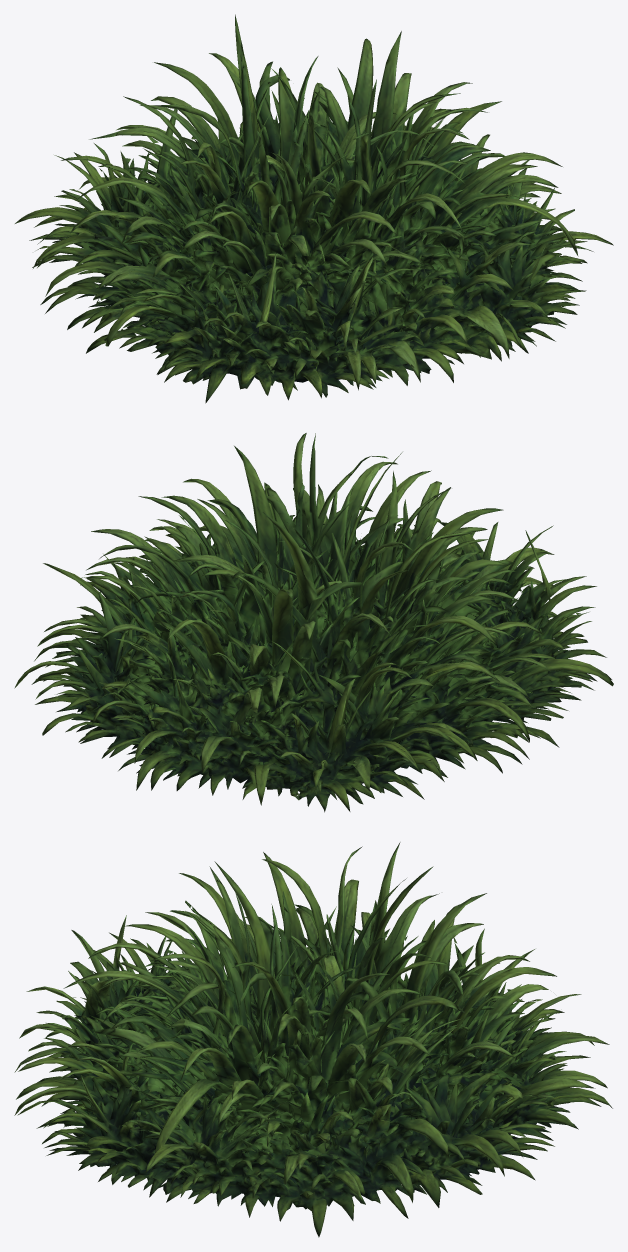
File: grass04.glb
3 views of the same model, one above another, from view 1: azimuth 30°, elevation 25°; view 2: azimuth 150°, elevation 25°; view 3: azimuth 270°, elevation 25° (orthographic). The views are drawn at different scales.
Size of the model in its own units: 1.9 by 0.8391 by 1.9.
Materials: 1 (1 with a texture image).
